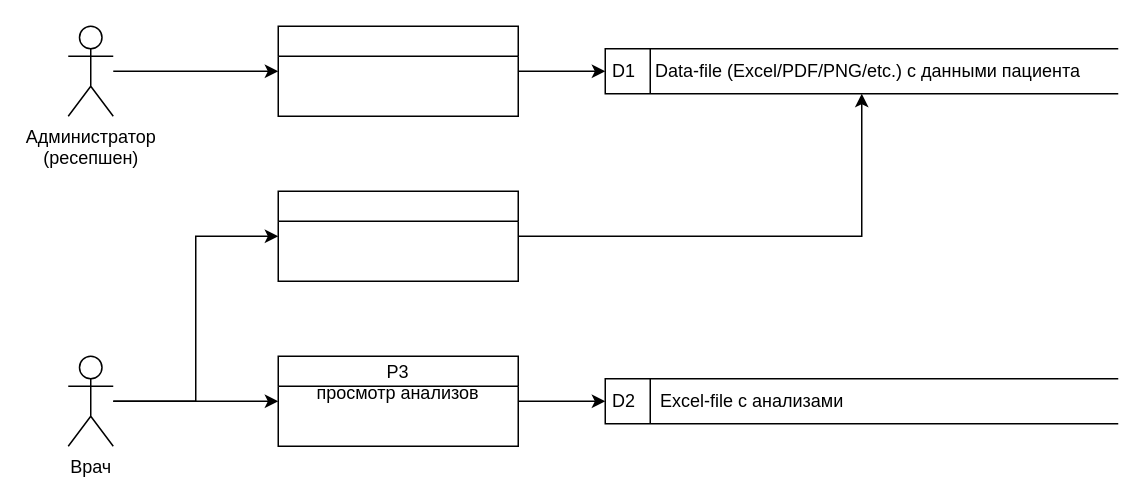
The diagram is 1145 pixels wide and 504 high, and some of its shapes have lost their labels. Each missing label, with the centre of its shape:
P1 регистрация файла с данными пациента: [397,70]
P2 просмотр медицинских данных пациента: [397,235]
